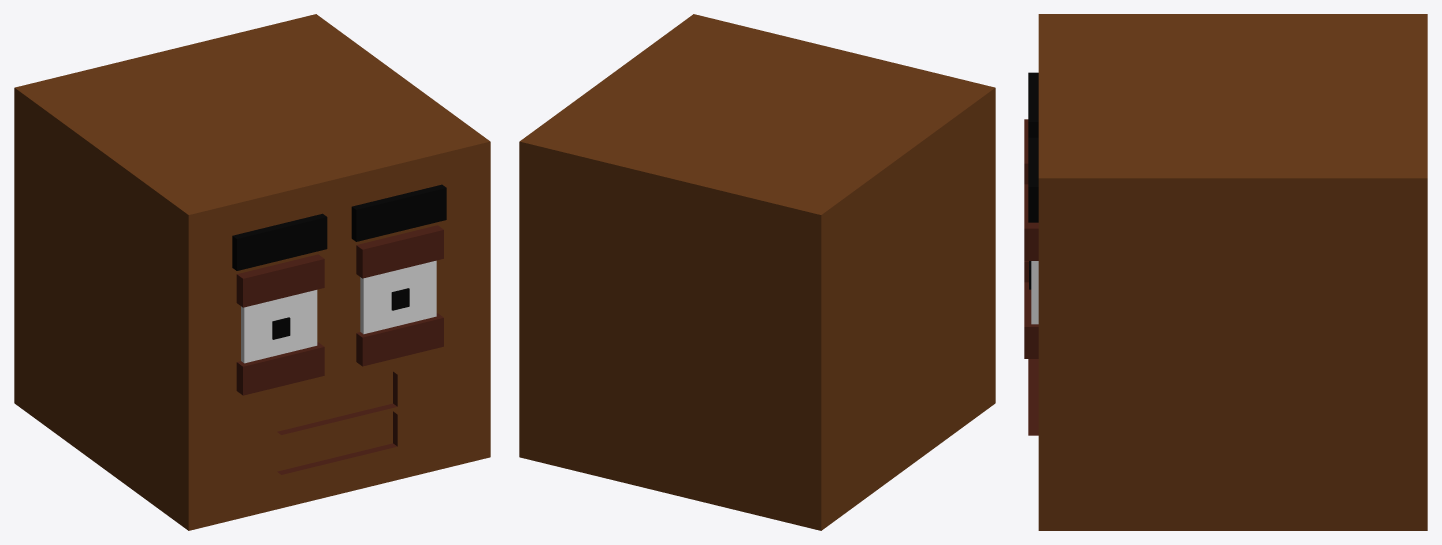
3 renders of one model, left to right at view 1: azimuth 30°, elevation 25°; view 2: azimuth 150°, elevation 25°; view 3: azimuth 270°, elevation 25°, orthographic. The views are drawn at different scales.
Visible parts, largest first — view 1: Cube.002; view 2: Cube.002; view 3: Cube.002.
Part boxes in pixels (left/top/right/bottom): Cube.002: left=14, top=14, right=490, bottom=530; Cube.002: left=519, top=14, right=995, bottom=530; Cube.002: left=1024, top=14, right=1427, bottom=530.
Size of the model in its own units: 1.69 by 1.69 by 1.75.
